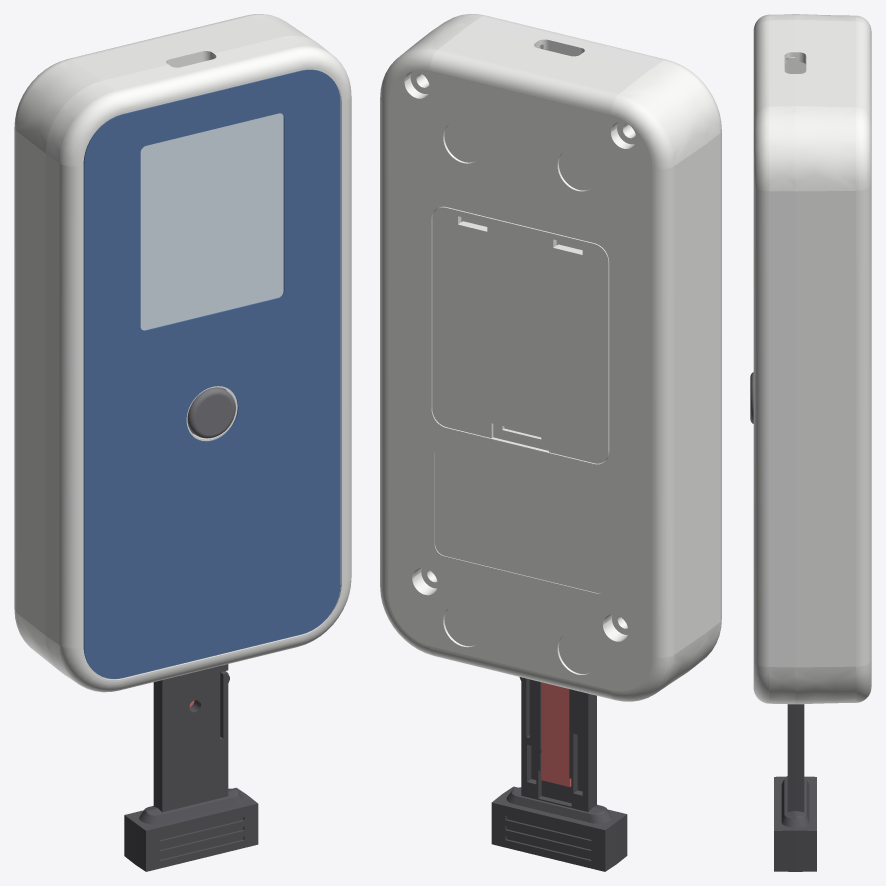
Rendered from .HemoSure_Tray_Open.step.glb.
3 renders of one model, left to right at view 1: azimuth 30°, elevation 25°; view 2: azimuth 150°, elevation 25°; view 3: azimuth 270°, elevation 25°, orthographic. The views are drawn at different scales.
Visible parts, largest first — view 1: o1.5, o1.2, o1.4, o1.1, o1.7, o1.3; view 2: o1.1, o1.6, o1.7, o1.2, o1.8; view 3: o1.1, o1.2, o1.7.
Part boxes in pixels (x1,y1,x2,y2): o1.5: (83,69,340,678); o1.2: (45,36,351,692); o1.4: (140,113,283,330); o1.1: (14,14,315,670); o1.7: (124,664,258,871); o1.3: (187,387,235,438); o1.1: (380,24,706,701); o1.6: (432,206,609,463); o1.7: (491,677,627,871); o1.2: (434,14,721,668); o1.8: (541,682,571,786); o1.1: (787,14,871,704); o1.2: (753,14,795,704); o1.7: (774,704,816,871).
Size of the model in its own units: 0.062 by 0.161 by 0.0226.
